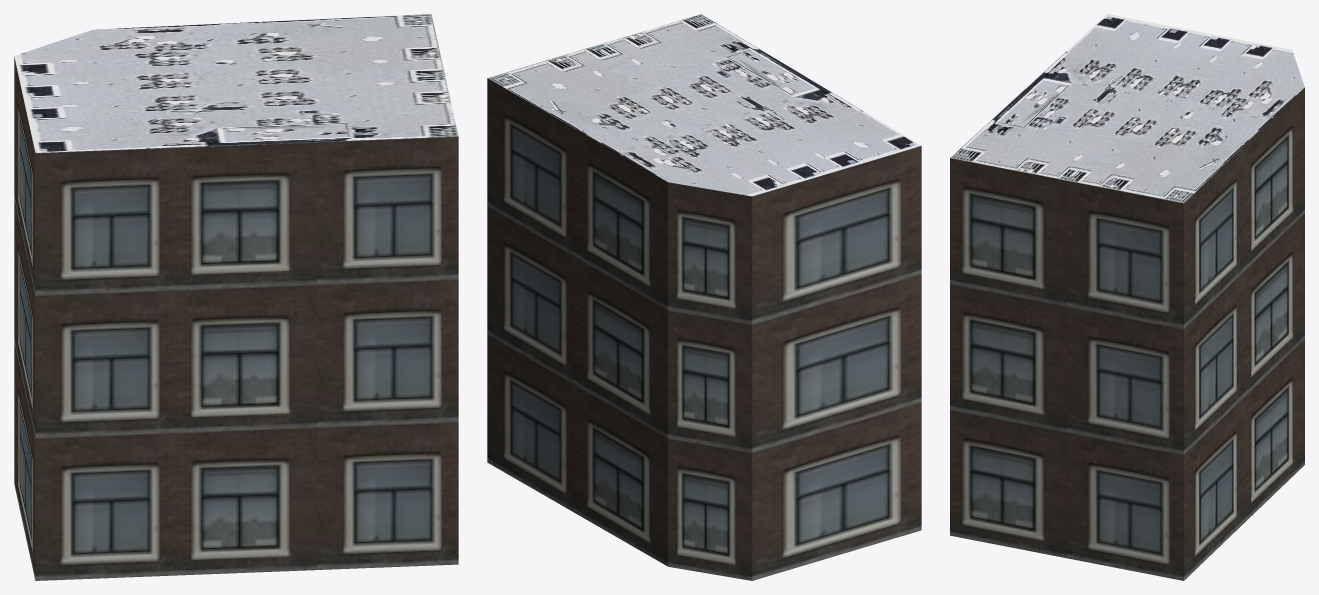
Rendered from ResTex__1219.fbx.
The picture shows the model from 3 angles, left to right: view 1: azimuth 30°, elevation 25°; view 2: azimuth 150°, elevation 25°; view 3: azimuth 270°, elevation 25°; orthographic projection. The views are drawn at different scales.
Parts seen in each view (by area): view 1: CityEngineMaterial_16_m, CityEngineMaterial_15_m; view 2: CityEngineMaterial_16_m, CityEngineMaterial_15_m; view 3: CityEngineMaterial_16_m, CityEngineMaterial_15_m.
Part boxes in pixels (x1,y1,x2,y2): CityEngineMaterial_16_m: (14,57,458,580); CityEngineMaterial_15_m: (14,14,458,152); CityEngineMaterial_16_m: (487,78,921,580); CityEngineMaterial_15_m: (488,14,921,196); CityEngineMaterial_16_m: (950,87,1304,580); CityEngineMaterial_15_m: (950,14,1304,203).
Bounding box in the file's own units: 9.68 × 9 × 7.66.
2 materials, 2 textured.
